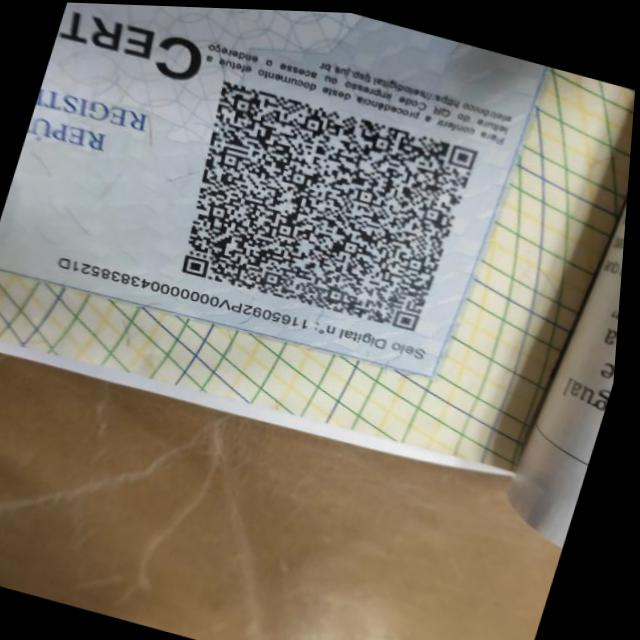qrcode: (165, 77, 482, 335)
